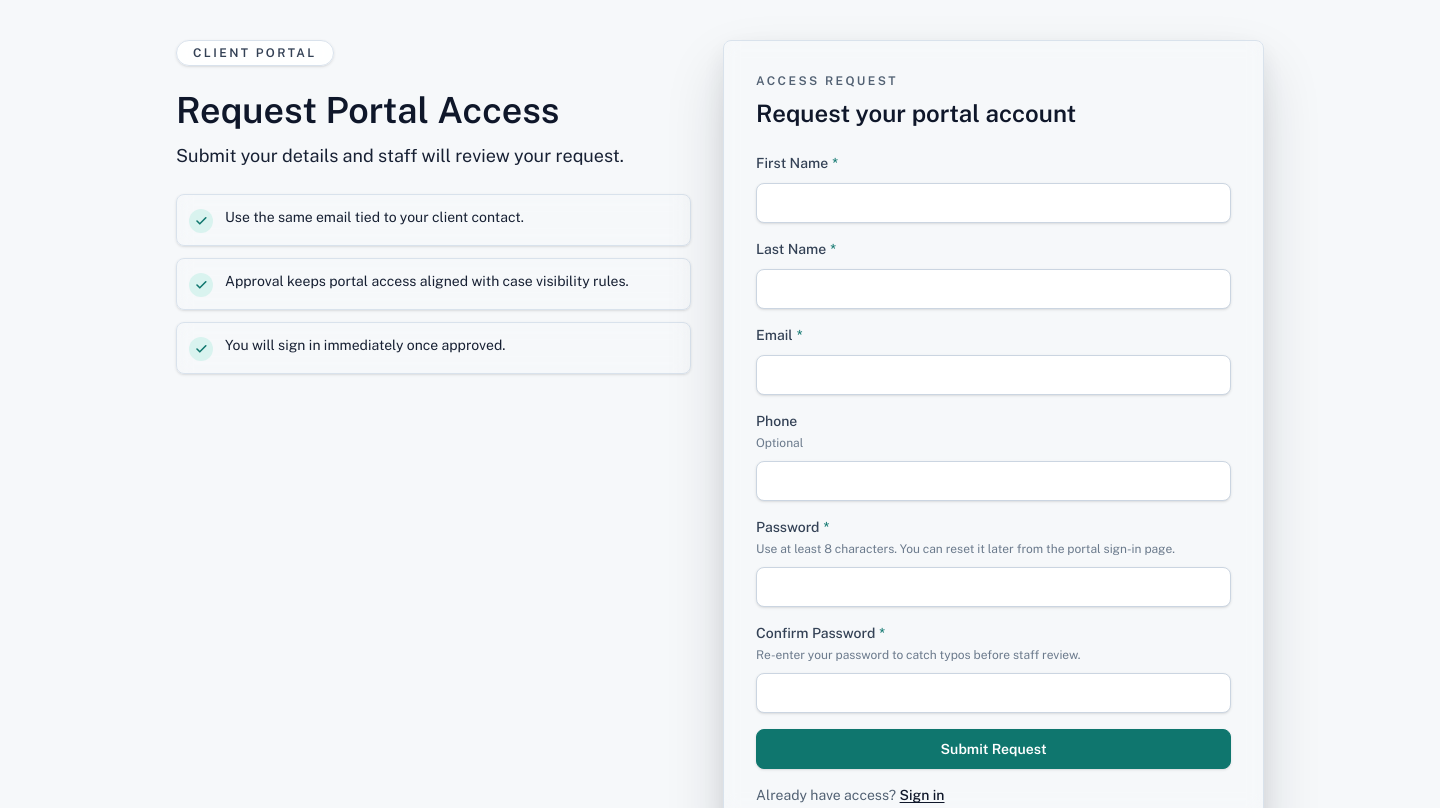
Portal access pages › focuses the confirmation field when signup passwords do not match
Type "Taylor" into the field labelled "First Name*".
click(994, 203); type("Taylor")  # box [756,183,1231,223]
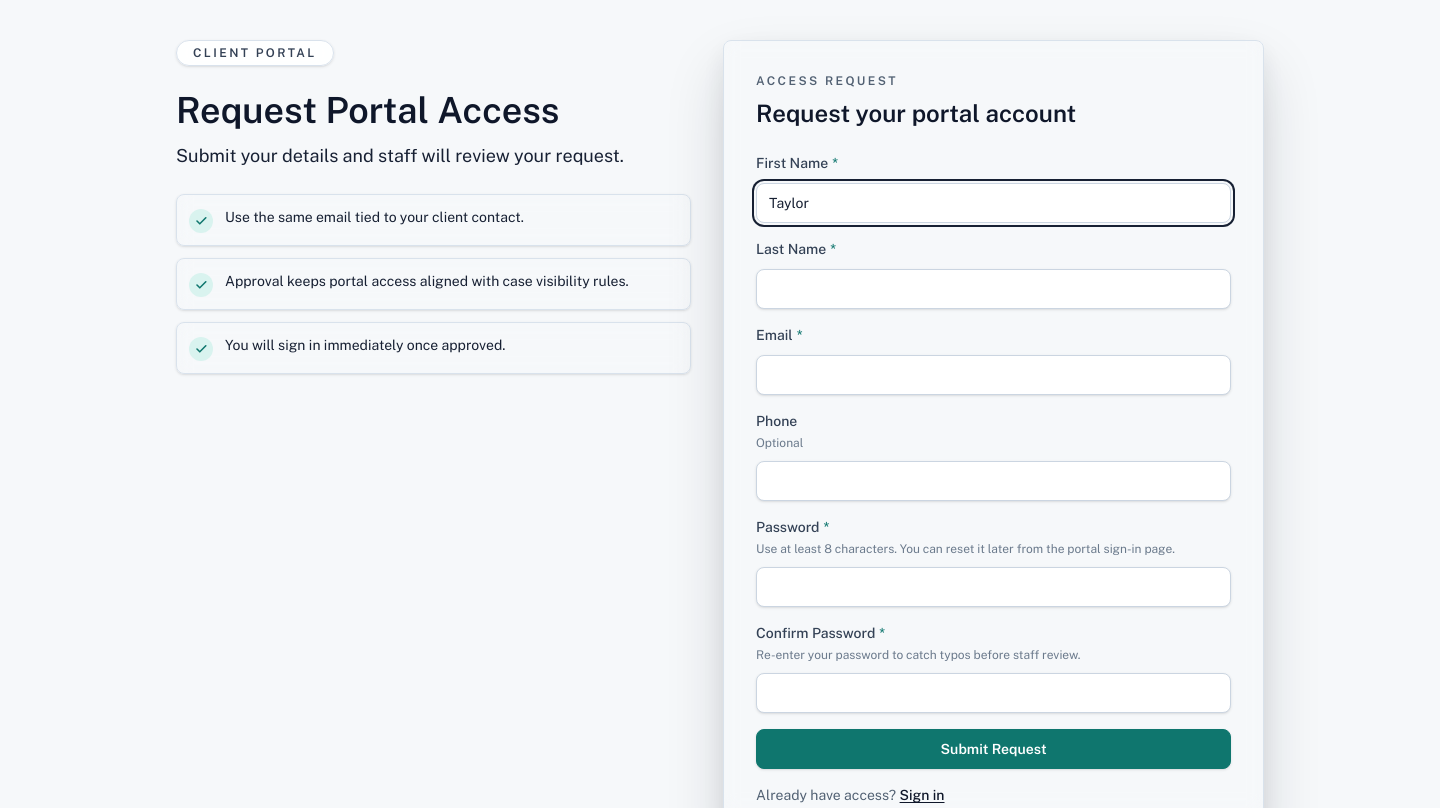
Type "Morgan" into the field labelled "Last Name*".
click(994, 289); type("Morgan")  # box [756,269,1231,309]
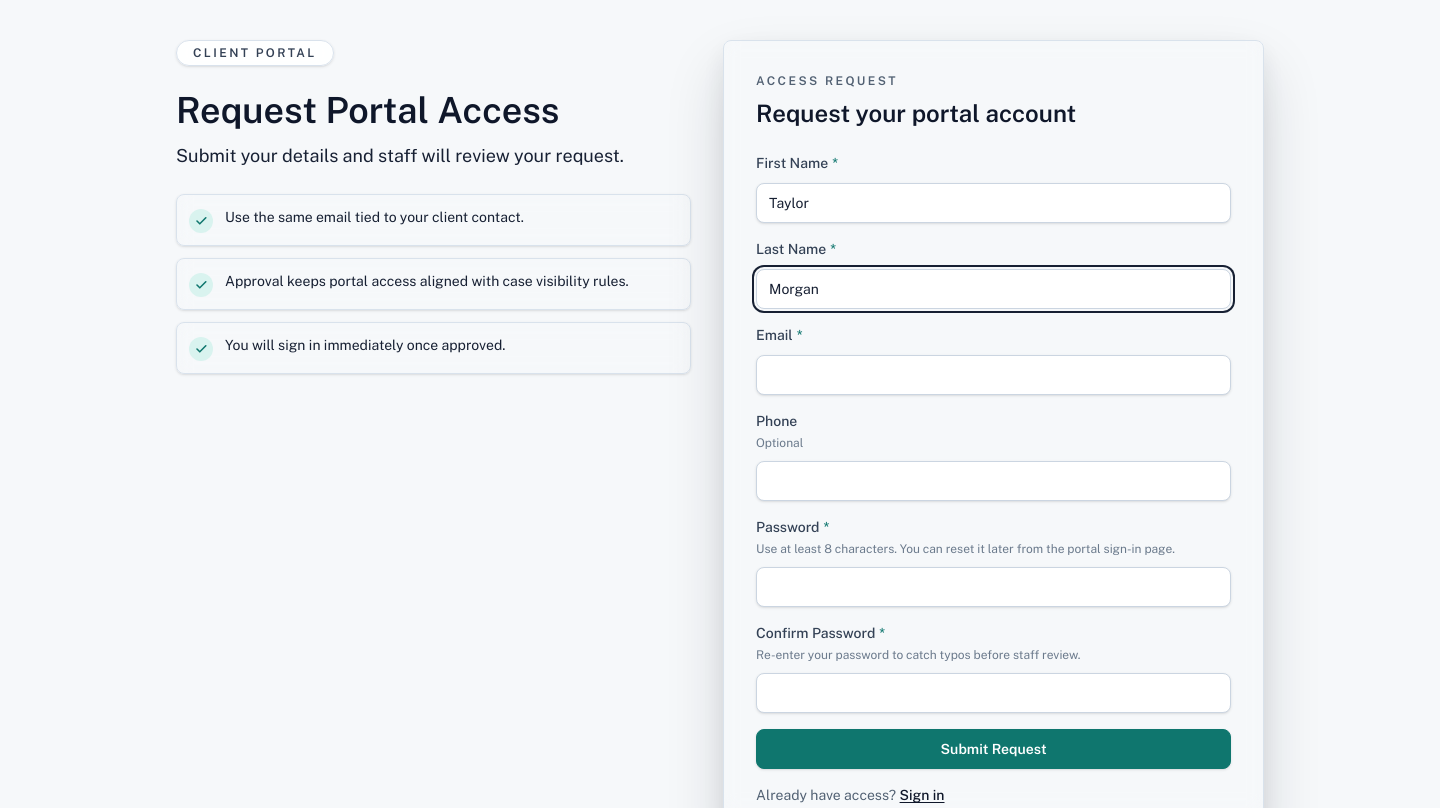
Type "portal@example.com" into the field labelled "Email*".
click(994, 375); type("portal@example.com")  # box [756,355,1231,395]
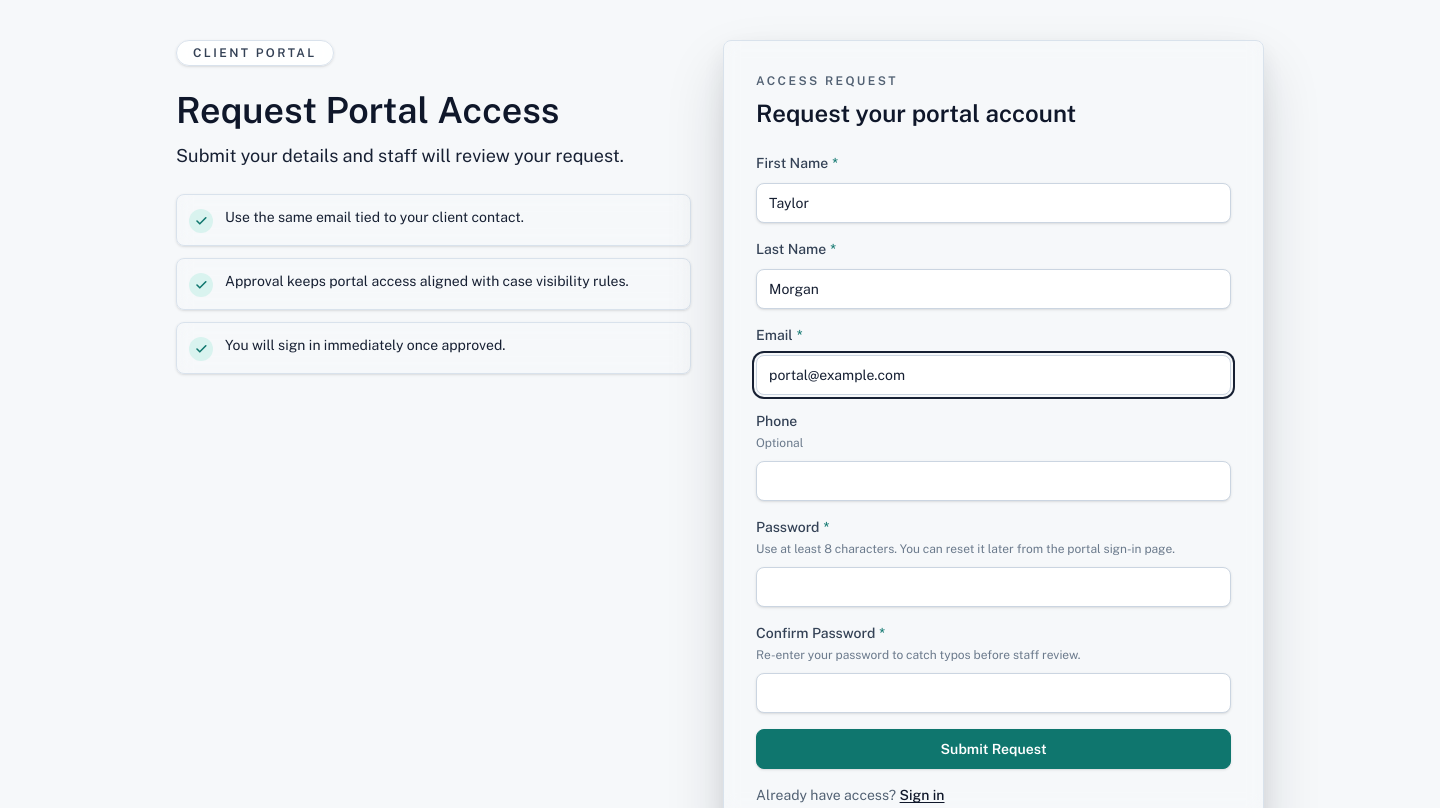
Type "Password1" into the password field labelled "Password*".
click(994, 587); type("Password1")  # box [756,567,1231,607]
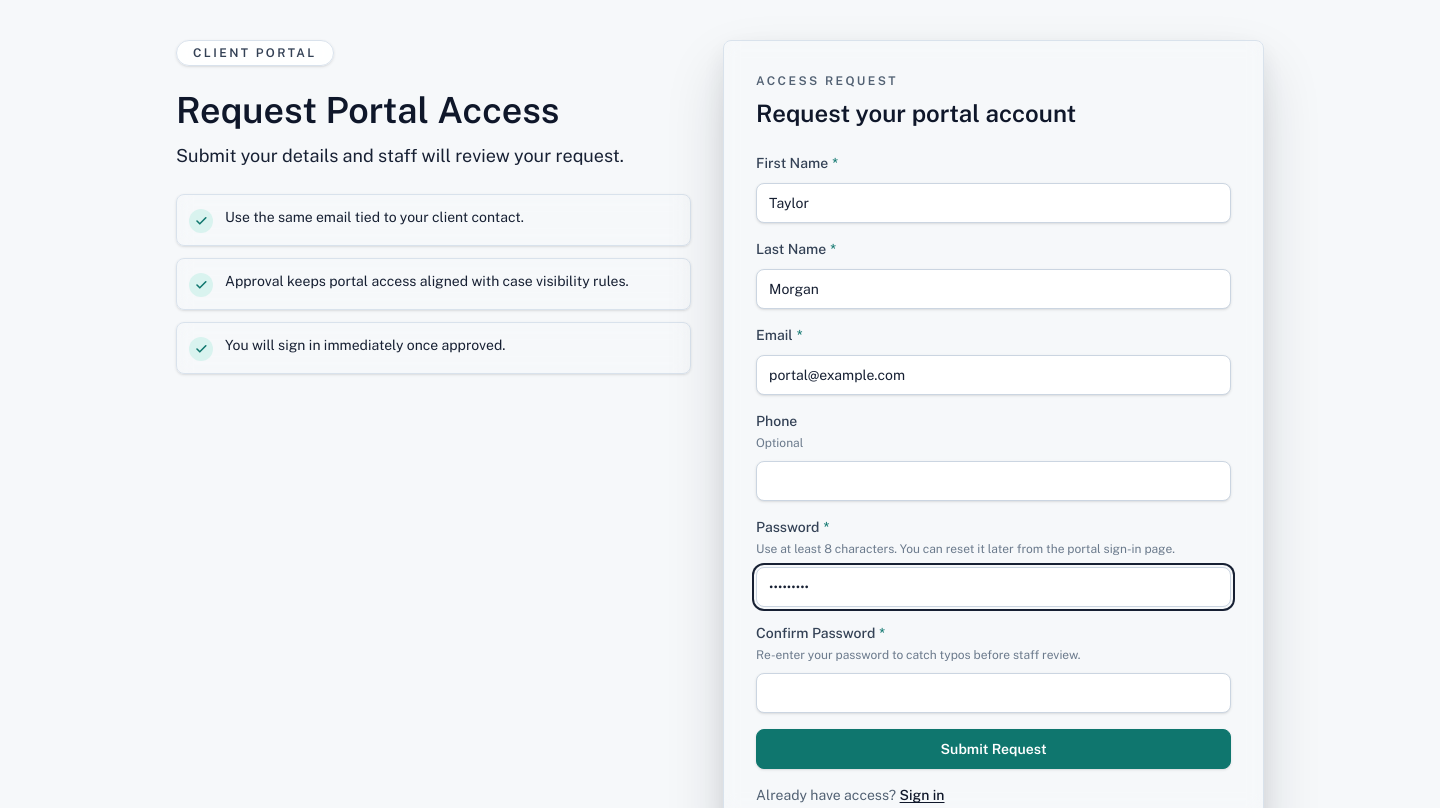
Type "Password2" into the password field labelled "Confirm Password*".
click(994, 693); type("Password2")  # box [756,673,1231,713]
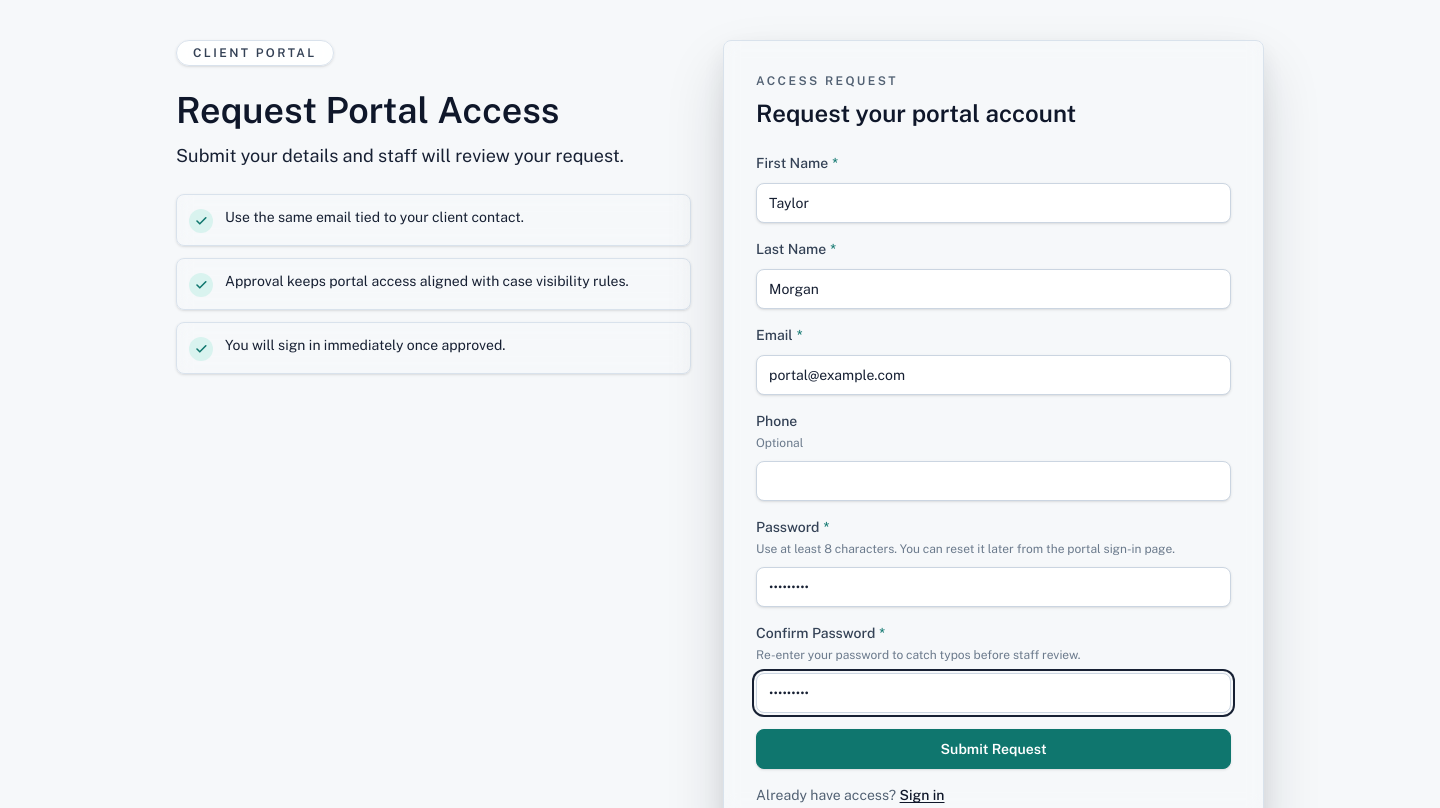
Click the button "Submit Request".
click(994, 749)  # box [756,729,1231,769]
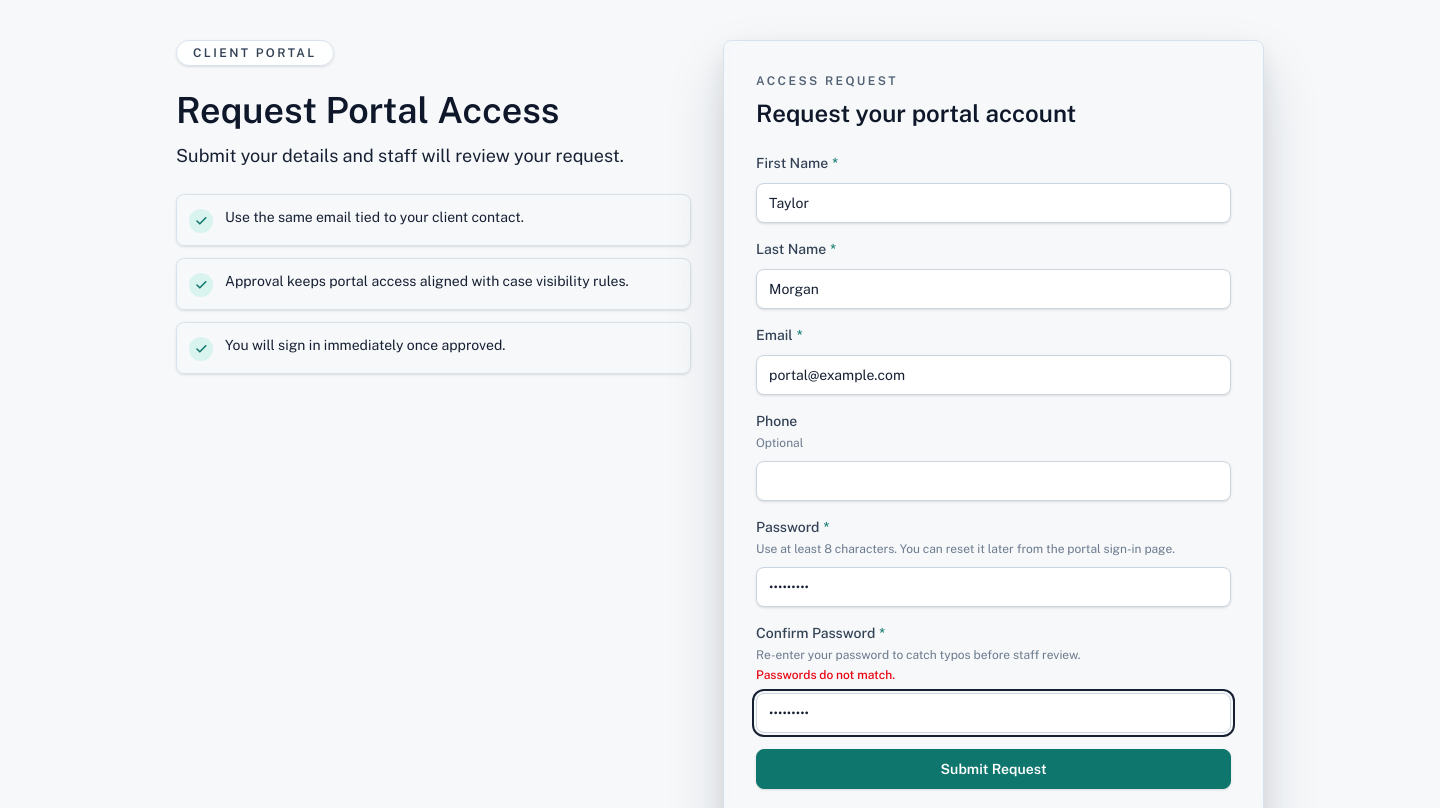
Expected: the text "Passwords do not match." is shown, [756,668,895,682]
